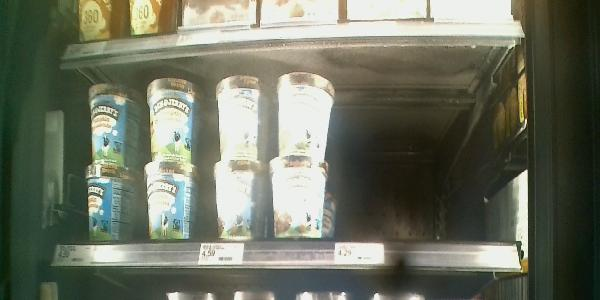icecream1: (270, 67, 339, 160), (212, 68, 276, 160), (271, 155, 339, 241), (146, 75, 210, 166), (211, 161, 274, 240), (144, 167, 200, 243), (86, 80, 136, 165), (84, 164, 137, 233)
